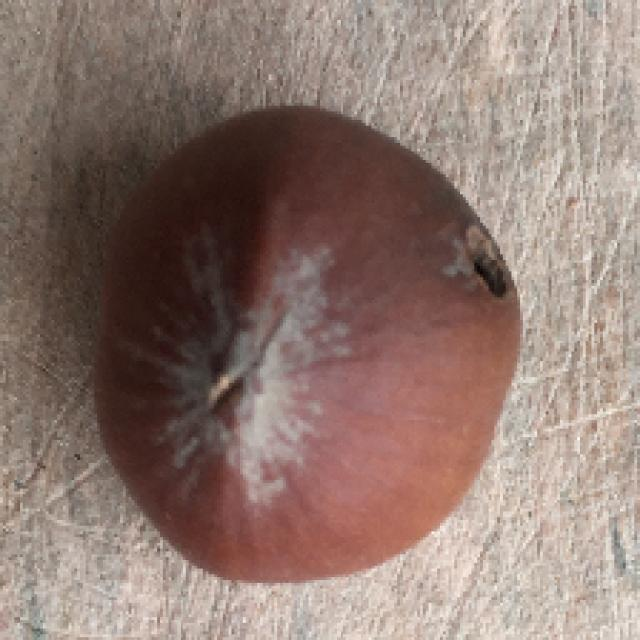DamagedHazelnut: (81, 105, 523, 585)
